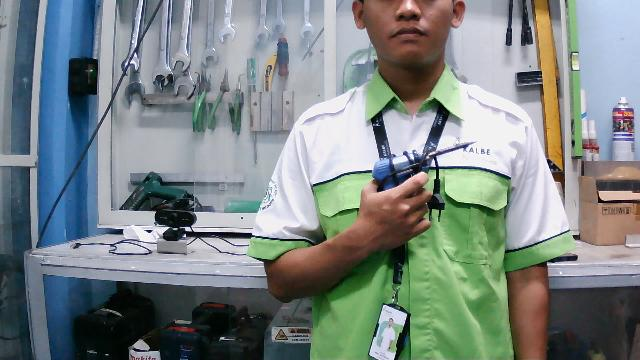solder_electrical: (363, 136, 483, 224)
